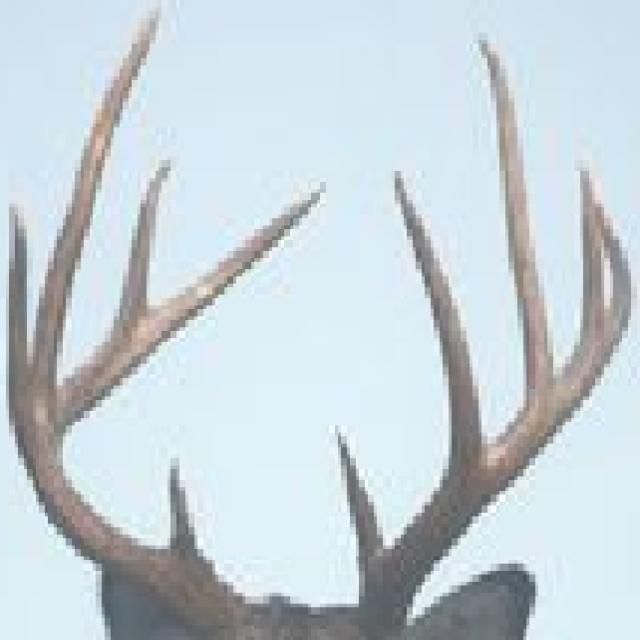L-F: (357, 196, 632, 634)
L-G1: (334, 423, 386, 574)
L-G2: (393, 170, 483, 474)
L-G3: (478, 31, 555, 404)
R-F: (8, 174, 330, 639)
R-G1: (166, 453, 206, 558)
R-G2: (6, 193, 31, 415)
R-G3: (29, 5, 163, 385)
R-G4: (112, 156, 173, 330)
